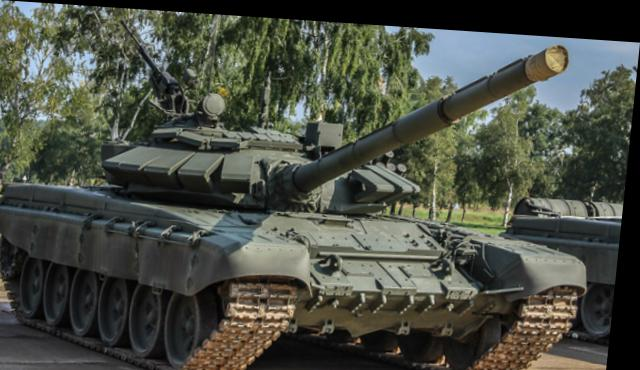tank: (0, 112, 585, 362)
